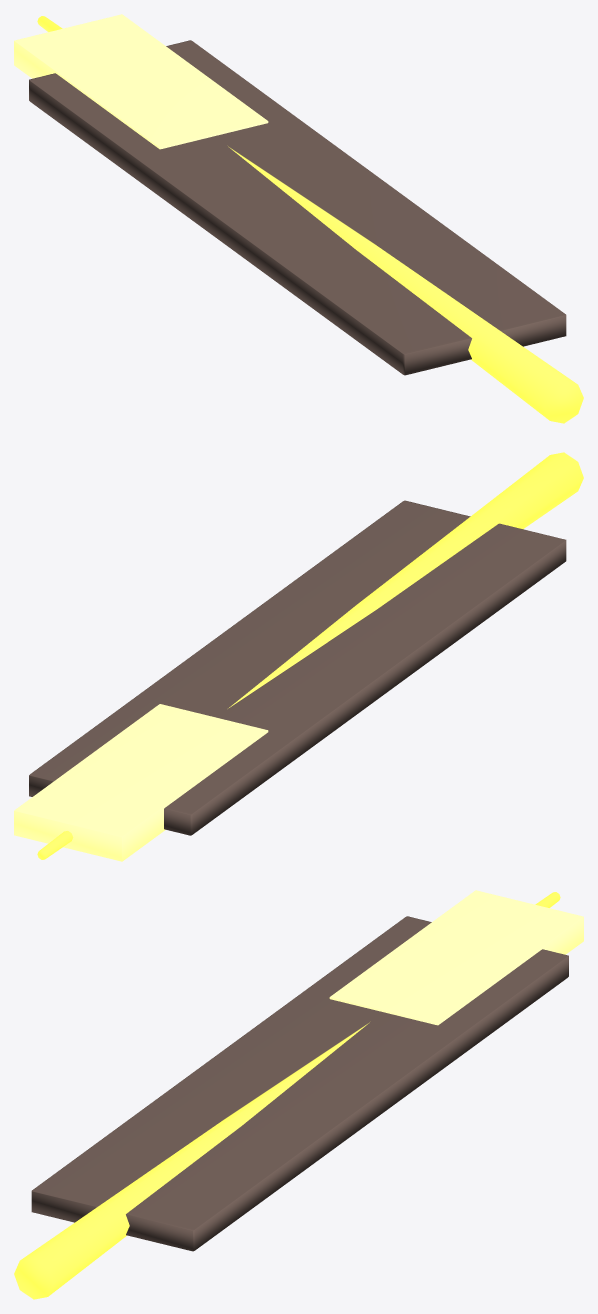
The model's file is SM_OwlFeatherProjectile.fbx.
3 renders of one model, top to bottom at view 1: azimuth 30°, elevation 25°; view 2: azimuth 150°, elevation 25°; view 3: azimuth 330°, elevation 25°, orthographic.
Parts seen in each view (by area): view 1: SM_OwlFeatherProjectile; view 2: SM_OwlFeatherProjectile; view 3: SM_OwlFeatherProjectile.
Part boxes in pixels (x1,y1,x2,y2): SM_OwlFeatherProjectile: (14, 14, 583, 423); SM_OwlFeatherProjectile: (14, 452, 583, 861); SM_OwlFeatherProjectile: (14, 890, 583, 1299).
Bounding box in the file's own units: 0.18 × 0.044 × 1.
